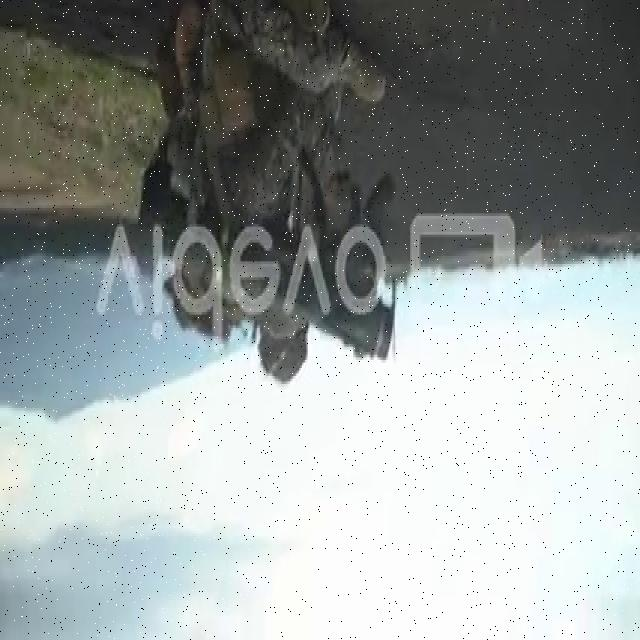bazooka: (135, 162, 396, 366)
